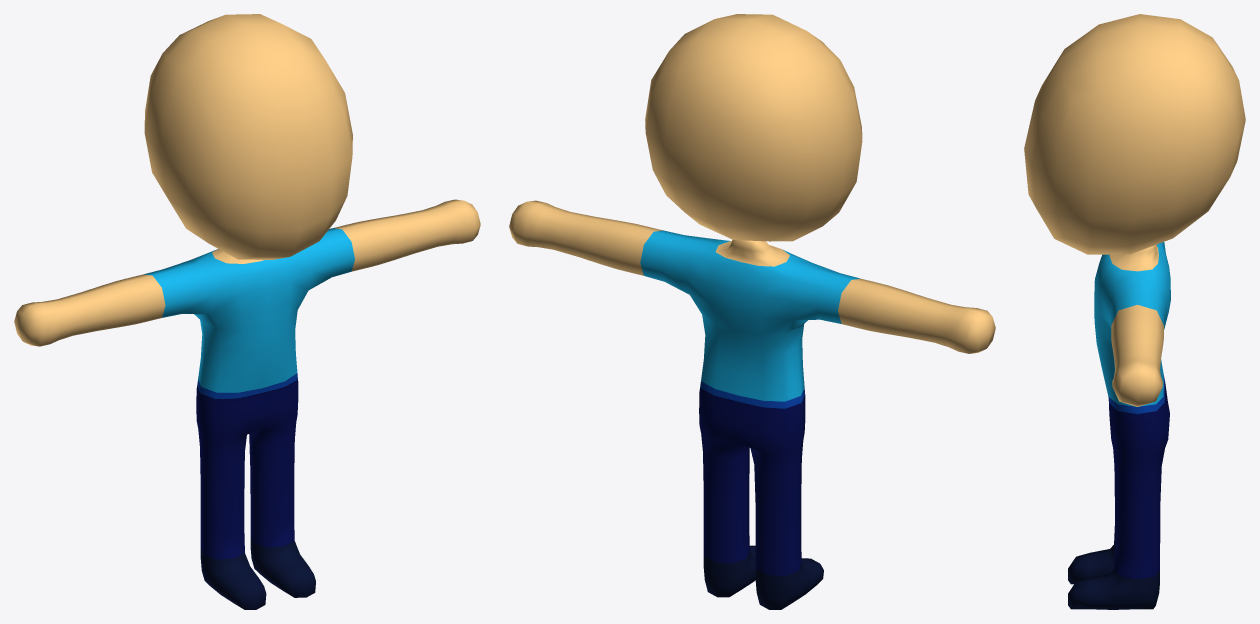
The model's file is Character.fbx.
3 renders of one model, left to right at view 1: azimuth 30°, elevation 25°; view 2: azimuth 150°, elevation 25°; view 3: azimuth 270°, elevation 25°, orthographic. The views are drawn at different scales.
Parts seen in each view (by area): view 1: Cube.001; view 2: Cube.001; view 3: Cube.001.
Boxes of the visible parts, x1=… form: Cube.001: x1=14, y1=14, x2=480, y2=609; Cube.001: x1=509, y1=14, x2=995, y2=609; Cube.001: x1=1024, y1=14, x2=1245, y2=609.
Size of the model in its own units: 181 by 210 by 74.04.
